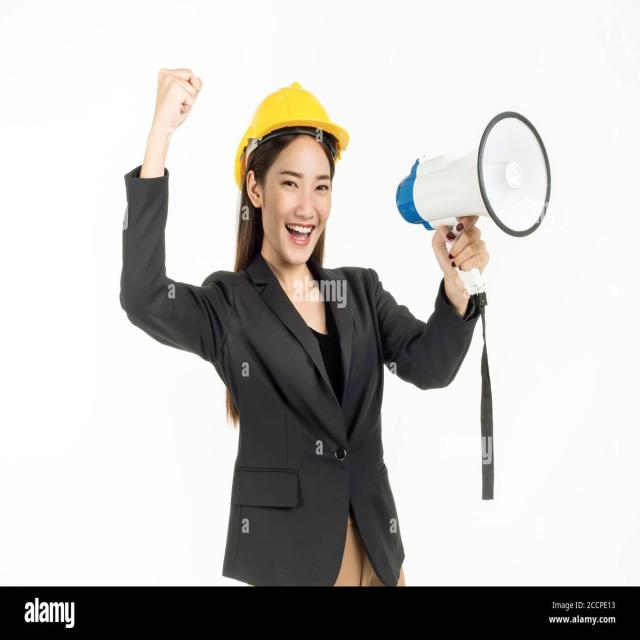helmet: (233, 80, 351, 192)
